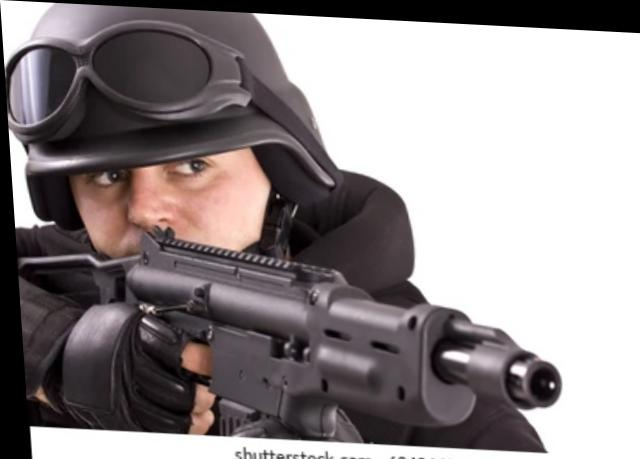other: (0, 9, 408, 438)
